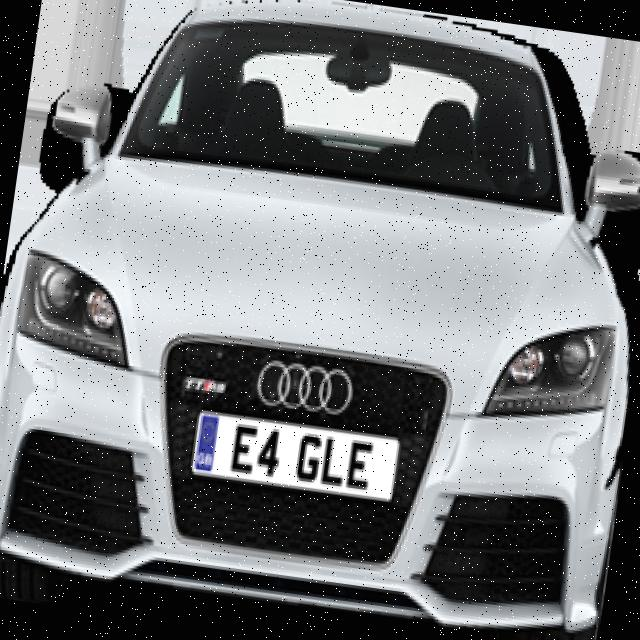Autre: (189, 413, 398, 507)
